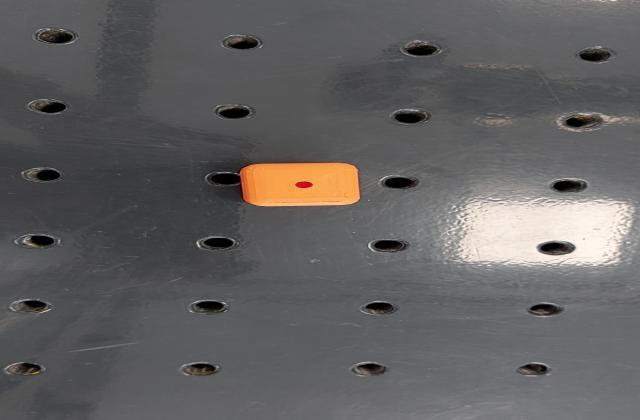cube: (234, 160, 370, 208)
